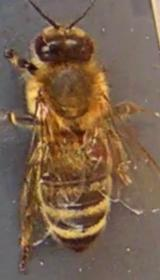varroa_mite: (72, 138, 118, 172)
